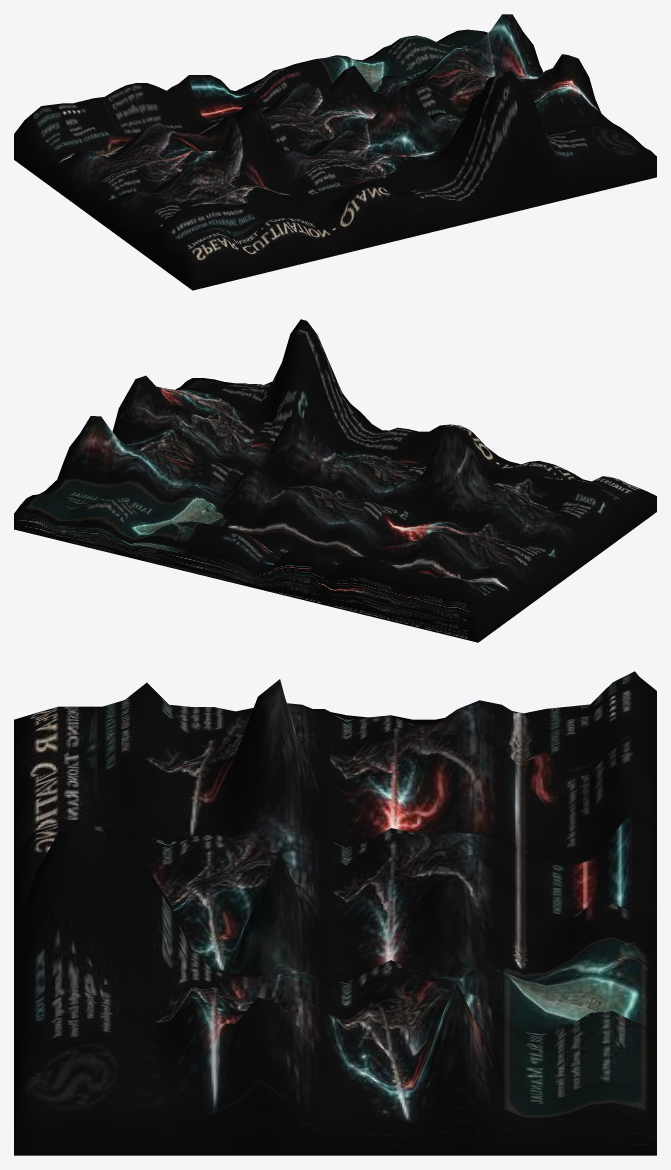
Rendered from CUL_13_Spear_Qiang.glb.
3 views of the same model, one above another, from view 1: azimuth 30°, elevation 25°; view 2: azimuth 150°, elevation 25°; view 3: azimuth 270°, elevation 25° (orthographic). The views are drawn at different scales.
Visible parts, largest first — view 1: CUL_13_Spear_Qiang; view 2: CUL_13_Spear_Qiang; view 3: CUL_13_Spear_Qiang.
Part boxes in pixels (x1,y1,x2,y2): CUL_13_Spear_Qiang: (14, 14, 656, 290); CUL_13_Spear_Qiang: (14, 319, 656, 642); CUL_13_Spear_Qiang: (14, 671, 656, 1155).
Size of the model in its own units: 2 by 0.51 by 1.33.
Materials: 1 (1 with a texture image).
